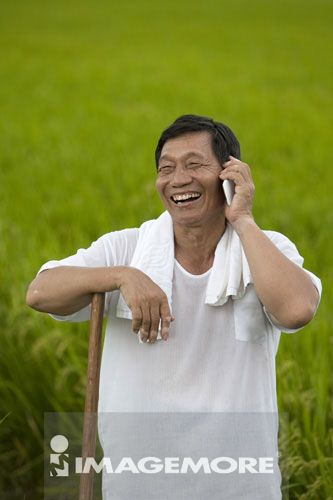talk: (156, 149, 253, 225)
